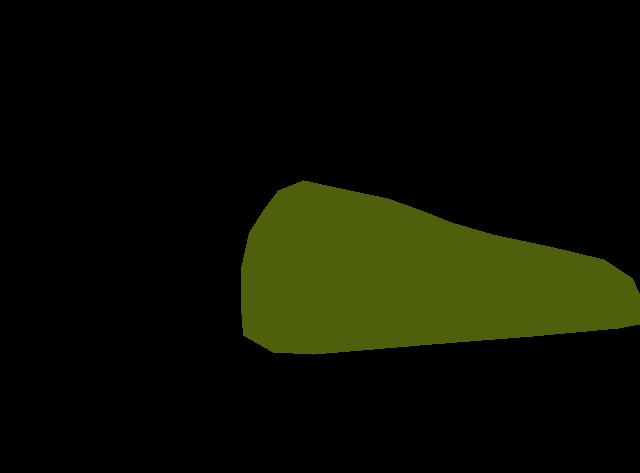Train: (241, 180, 640, 355)
